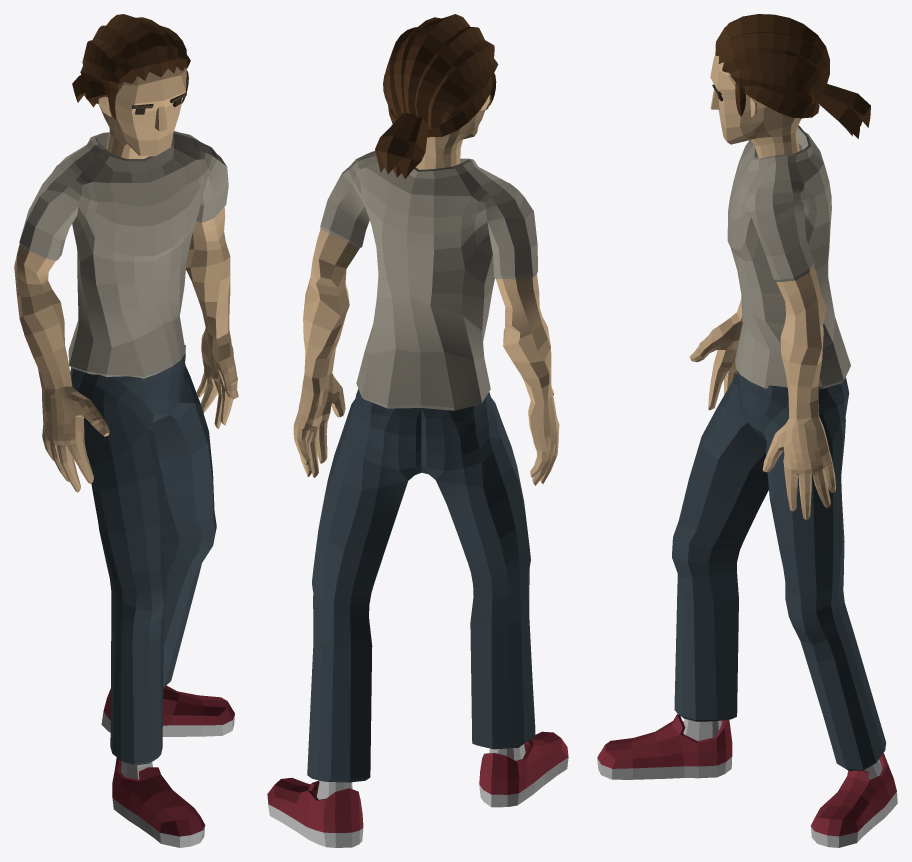
Rendered from jack.glb.
The picture shows the model from 3 angles, left to right: view 1: azimuth 30°, elevation 25°; view 2: azimuth 150°, elevation 25°; view 3: azimuth 270°, elevation 25°; orthographic projection. The views are drawn at different scales.
Visible parts, largest first — view 1: Casual2_Body, Casual2_Legs, Casual2_Head, Casual2_Feet; view 2: Casual2_Body, Casual2_Legs, Casual2_Head, Casual2_Feet; view 3: Casual2_Legs, Casual2_Body, Casual2_Head, Casual2_Feet.
Boxes of the visible parts, x1,y1,x2,y2 form: Casual2_Body: (14, 131, 238, 492); Casual2_Legs: (70, 345, 216, 765); Casual2_Head: (72, 14, 190, 158); Casual2_Feet: (101, 685, 234, 847); Casual2_Body: (293, 151, 559, 485); Casual2_Legs: (307, 389, 535, 782); Casual2_Head: (375, 14, 498, 178); Casual2_Feet: (267, 731, 568, 847); Casual2_Legs: (672, 372, 886, 770); Casual2_Body: (689, 125, 850, 519); Casual2_Head: (710, 14, 870, 158); Casual2_Feet: (597, 714, 897, 847).
Size of the model in its own units: 0.5964 by 1.82 by 0.6427.
